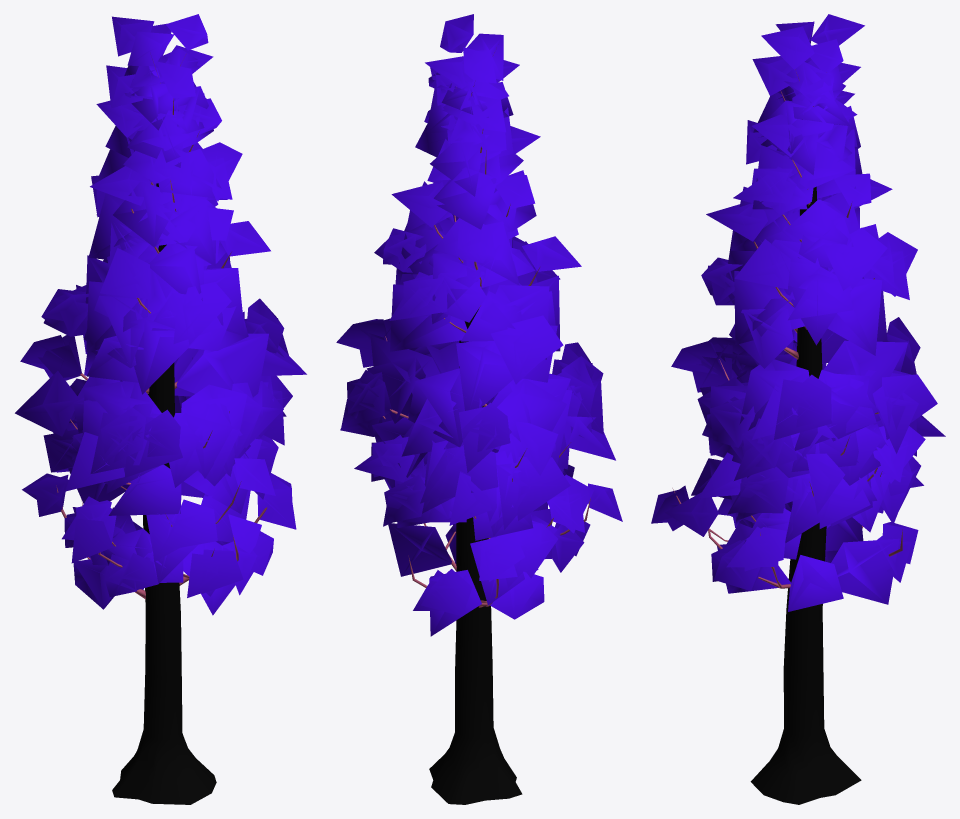
Rendered from Mesh_Metasequoia_Var1.fbx.
The picture shows the model from 3 angles, left to right: view 1: azimuth 30°, elevation 25°; view 2: azimuth 150°, elevation 25°; view 3: azimuth 270°, elevation 25°; orthographic projection.
Parts seen in each view (by area): view 1: Mesh_MetasequoiaLOD0; view 2: Mesh_MetasequoiaLOD0; view 3: Mesh_MetasequoiaLOD0.
Part boxes in pixels (x1=…): Mesh_MetasequoiaLOD0: x1=15, y1=14, x2=306, y2=804; Mesh_MetasequoiaLOD0: x1=336, y1=14, x2=622, y2=804; Mesh_MetasequoiaLOD0: x1=651, y1=14, x2=945, y2=804.
Size of what is drawn, in the model's own units: 864 by 2513 by 883.
